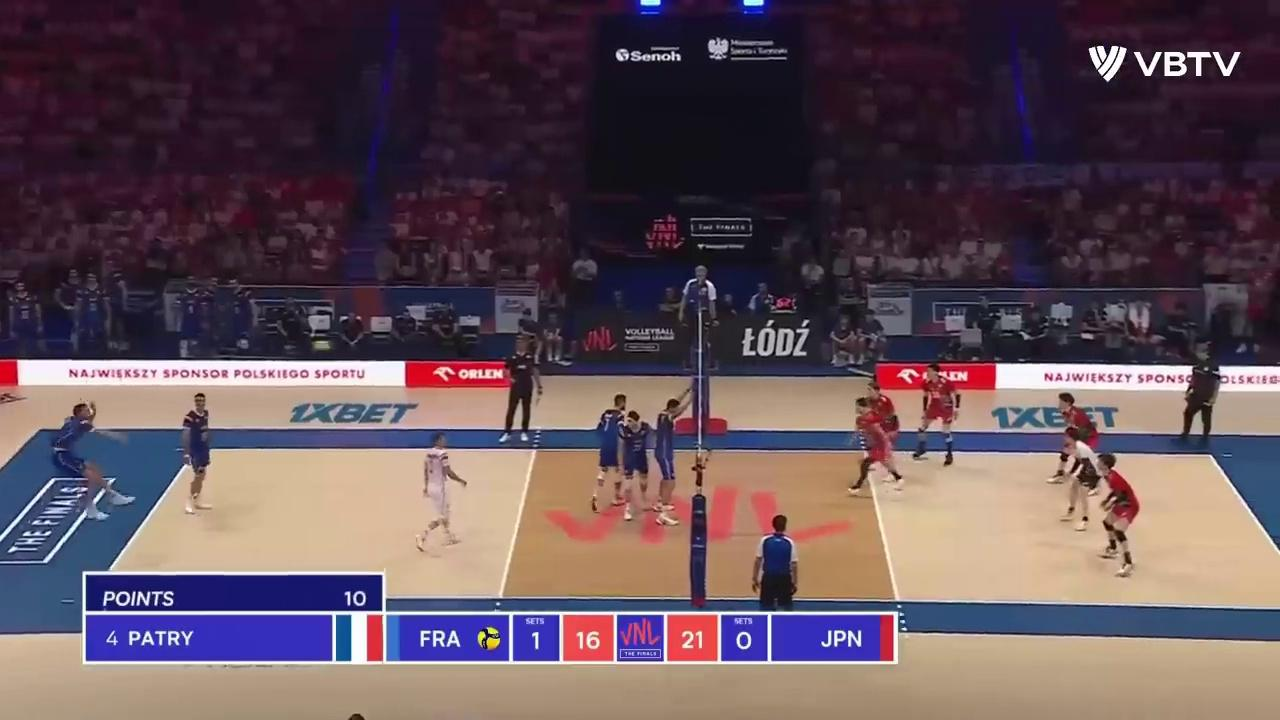ball: (310, 340, 332, 352)
